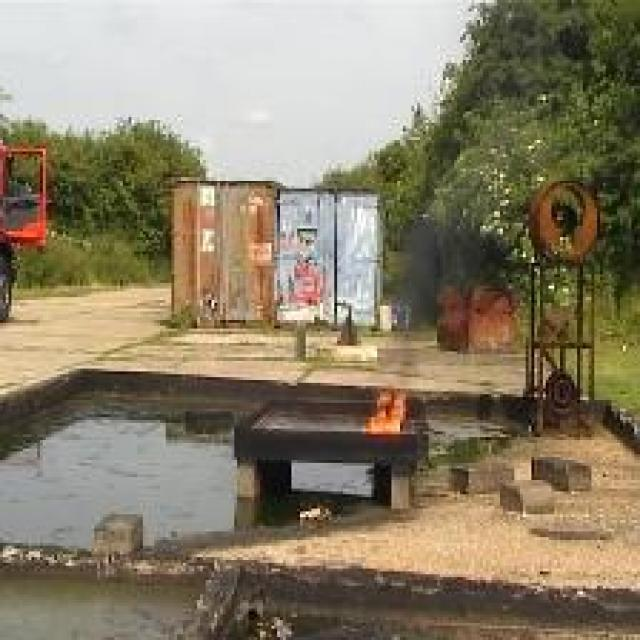Fire: (363, 388, 406, 434)
